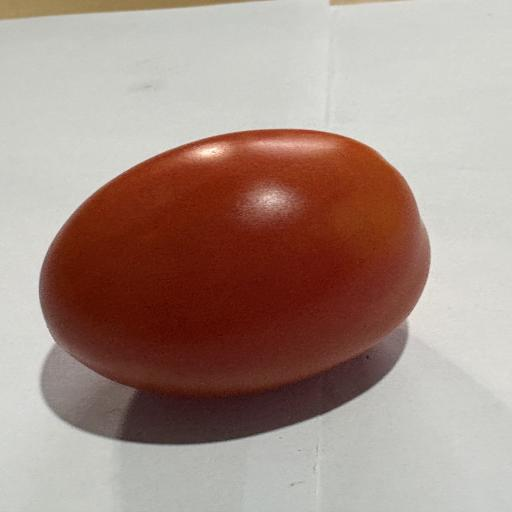ripe: (40, 129, 430, 396)
